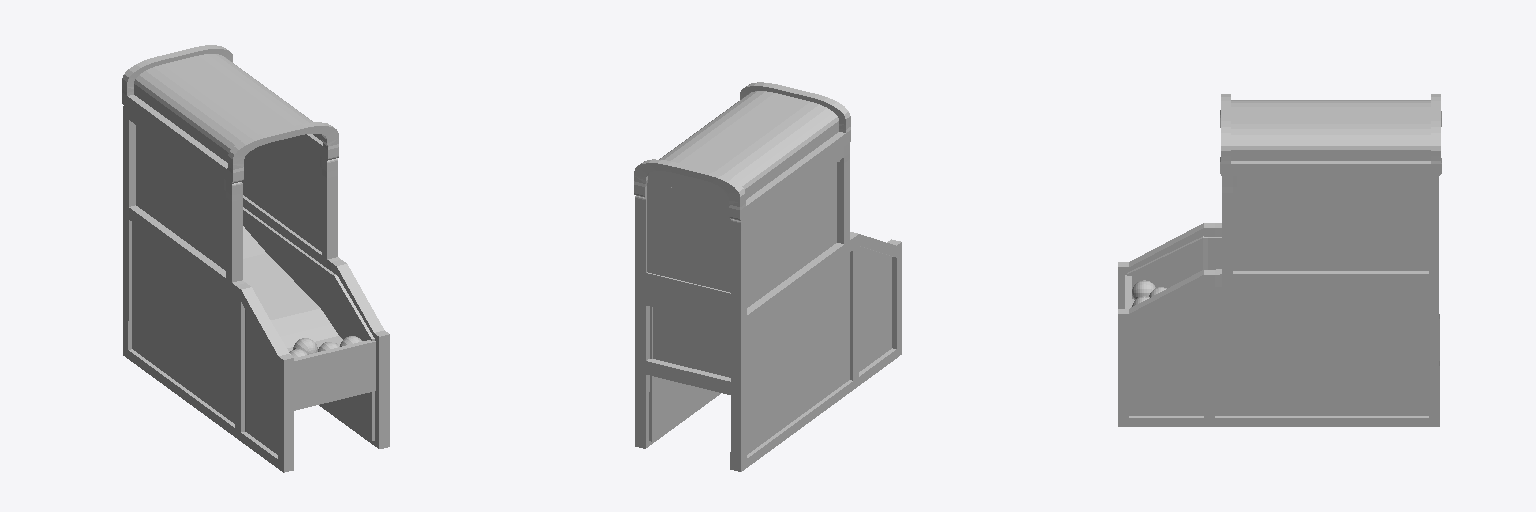
File: Basquet.obj
3 renders of one model, left to right at view 1: azimuth 30°, elevation 25°; view 2: azimuth 150°, elevation 25°; view 3: azimuth 270°, elevation 25°, orthographic.
Visible parts, largest first — view 1: Cube.006, Cube.001_Cube.002, Cube.007, Sphere.000_Sphere.003; view 2: Cube.006, Cube.001_Cube.002, Cube.007; view 3: Cube.006, Cube.007, Cube.001_Cube.002.
Part boxes in pixels (x1,y1,x2,y2): Cube.006: (132, 207, 375, 454); Cube.001_Cube.002: (122, 45, 389, 472); Cube.007: (134, 54, 322, 270); Sphere.000_Sphere.003: (289, 336, 361, 357); Cube.006: (646, 171, 891, 454); Cube.001_Cube.002: (634, 82, 901, 471); Cube.007: (659, 91, 838, 307); Cube.006: (1125, 236, 1428, 415); Cube.007: (1231, 100, 1430, 270); Cube.001_Cube.002: (1118, 94, 1441, 426).
Size of the model in its own units: 1.12 by 2.9 by 2.93.